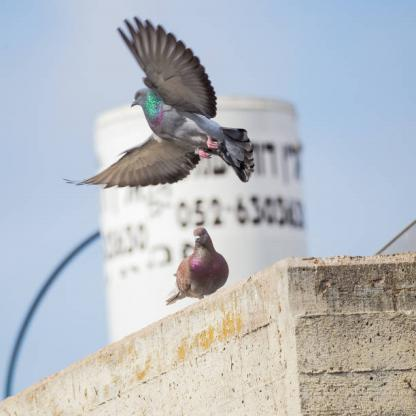Rock Pigeon: (99, 17, 253, 190), (169, 225, 233, 302)
